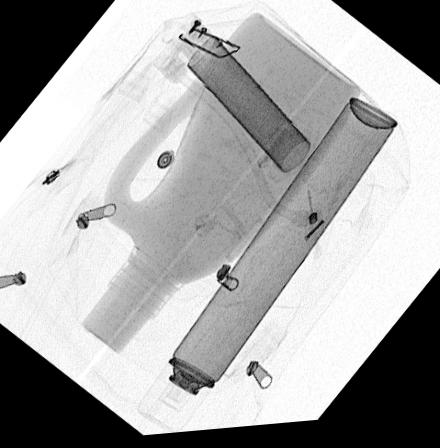Sprayer: (135, 102, 400, 436)
